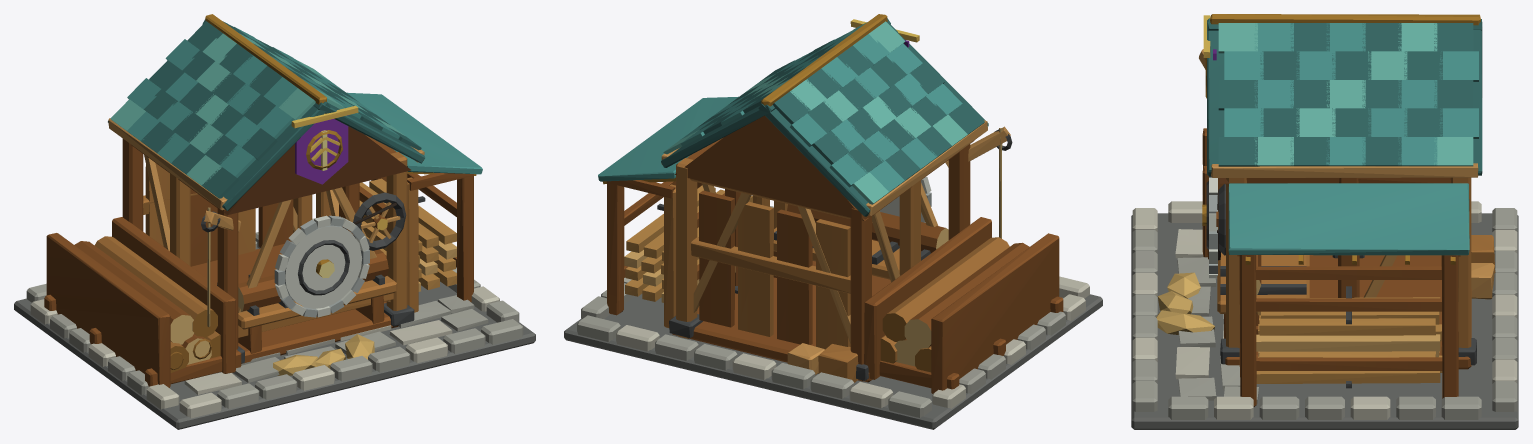
3 views of the same model, side by side, from view 1: azimuth 30°, elevation 25°; view 2: azimuth 150°, elevation 25°; view 3: azimuth 270°, elevation 25° (orthographic). The views are drawn at different scales.
Parts seen in each view (by area): view 1: WK_LumberCamp_LOD0_High; view 2: WK_LumberCamp_LOD0_High; view 3: WK_LumberCamp_LOD0_High.
Part boxes in pixels (<box>): WK_LumberCamp_LOD0_High: <box>14,14,535,429</box>; WK_LumberCamp_LOD0_High: <box>564,14,1102,429</box>; WK_LumberCamp_LOD0_High: <box>1131,14,1518,429</box>.
Bounding box in the file's own units: 8.6 × 6.05 × 6.8.
